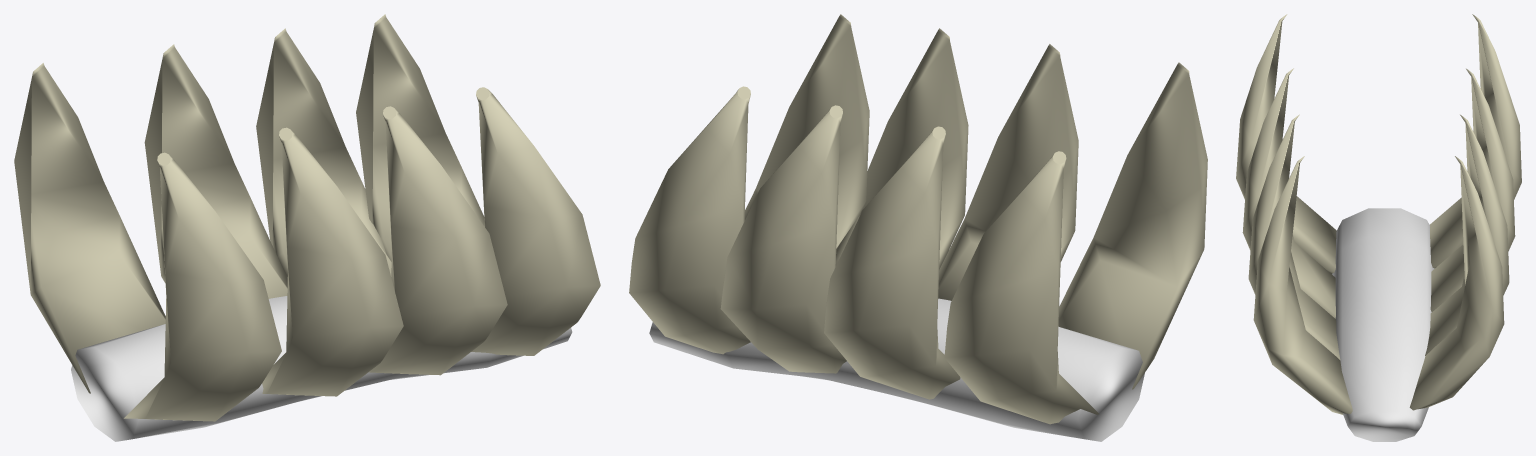
File: COSTILLAR.fbx
3 renders of one model, left to right at view 1: azimuth 30°, elevation 25°; view 2: azimuth 150°, elevation 25°; view 3: azimuth 270°, elevation 25°, orthographic. The views are drawn at different scales.
Parts seen in each view (by area): view 1: Plane, Cylinder; view 2: Plane, Cylinder; view 3: Plane, Cylinder.
Boxes of the visible parts, bbox=[...] form: Plane: bbox=[14, 14, 600, 421]; Cylinder: bbox=[71, 296, 572, 441]; Plane: bbox=[629, 14, 1207, 424]; Cylinder: bbox=[649, 298, 1144, 441]; Plane: bbox=[1236, 14, 1521, 414]; Cylinder: bbox=[1332, 208, 1434, 441].
Size of the model in its own units: 841 by 597 by 588.
